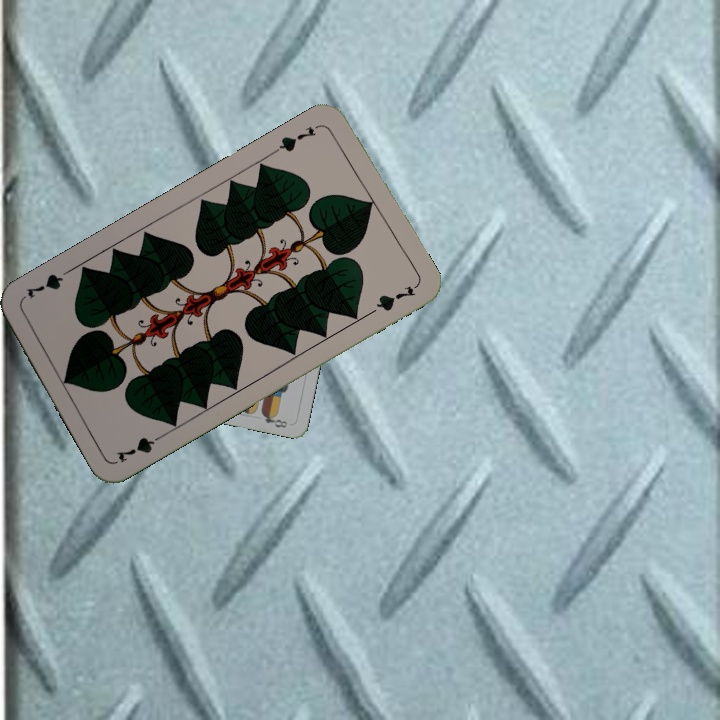G7: (112, 429, 168, 466), (270, 120, 324, 155)
